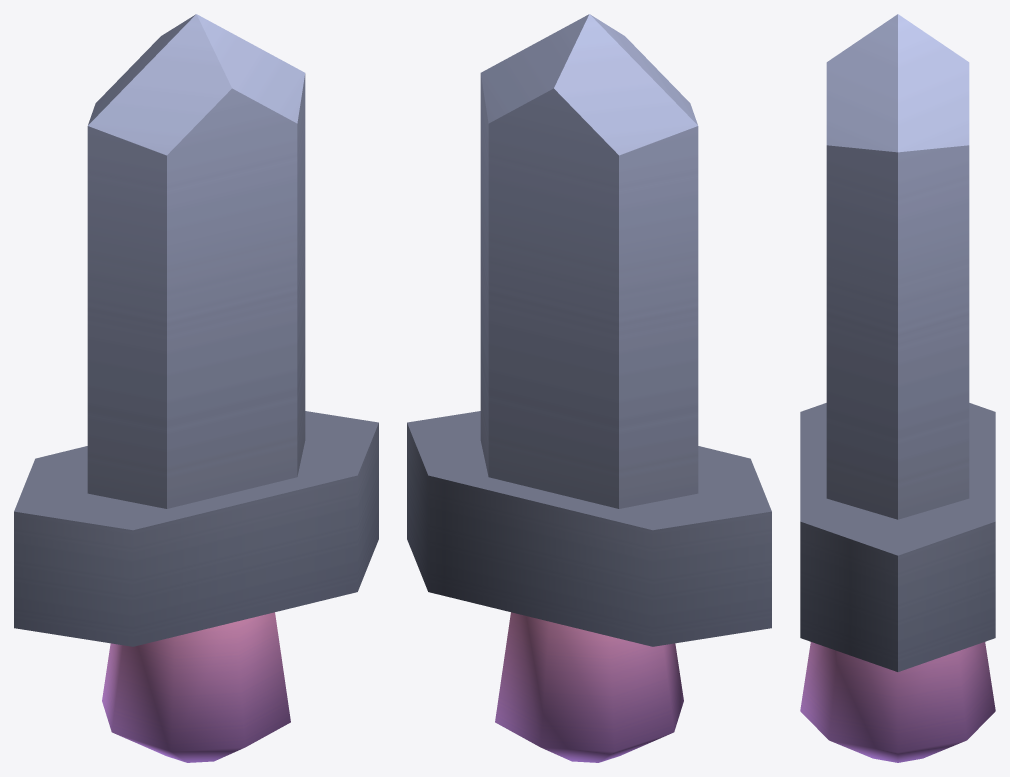
Rendered from weapon-sword.fbx.
3 views of the same model, side by side, from view 1: azimuth 30°, elevation 25°; view 2: azimuth 150°, elevation 25°; view 3: azimuth 270°, elevation 25° (orthographic).
Parts seen in each view (by area): view 1: weapon-sword; view 2: weapon-sword; view 3: weapon-sword.
Part boxes in pixels (x1,y1,x2,y2): weapon-sword: (14, 14, 378, 762); weapon-sword: (407, 14, 771, 762); weapon-sword: (800, 14, 995, 762).
Size of the model in its own units: 23.3 by 44.8 by 10.82.
